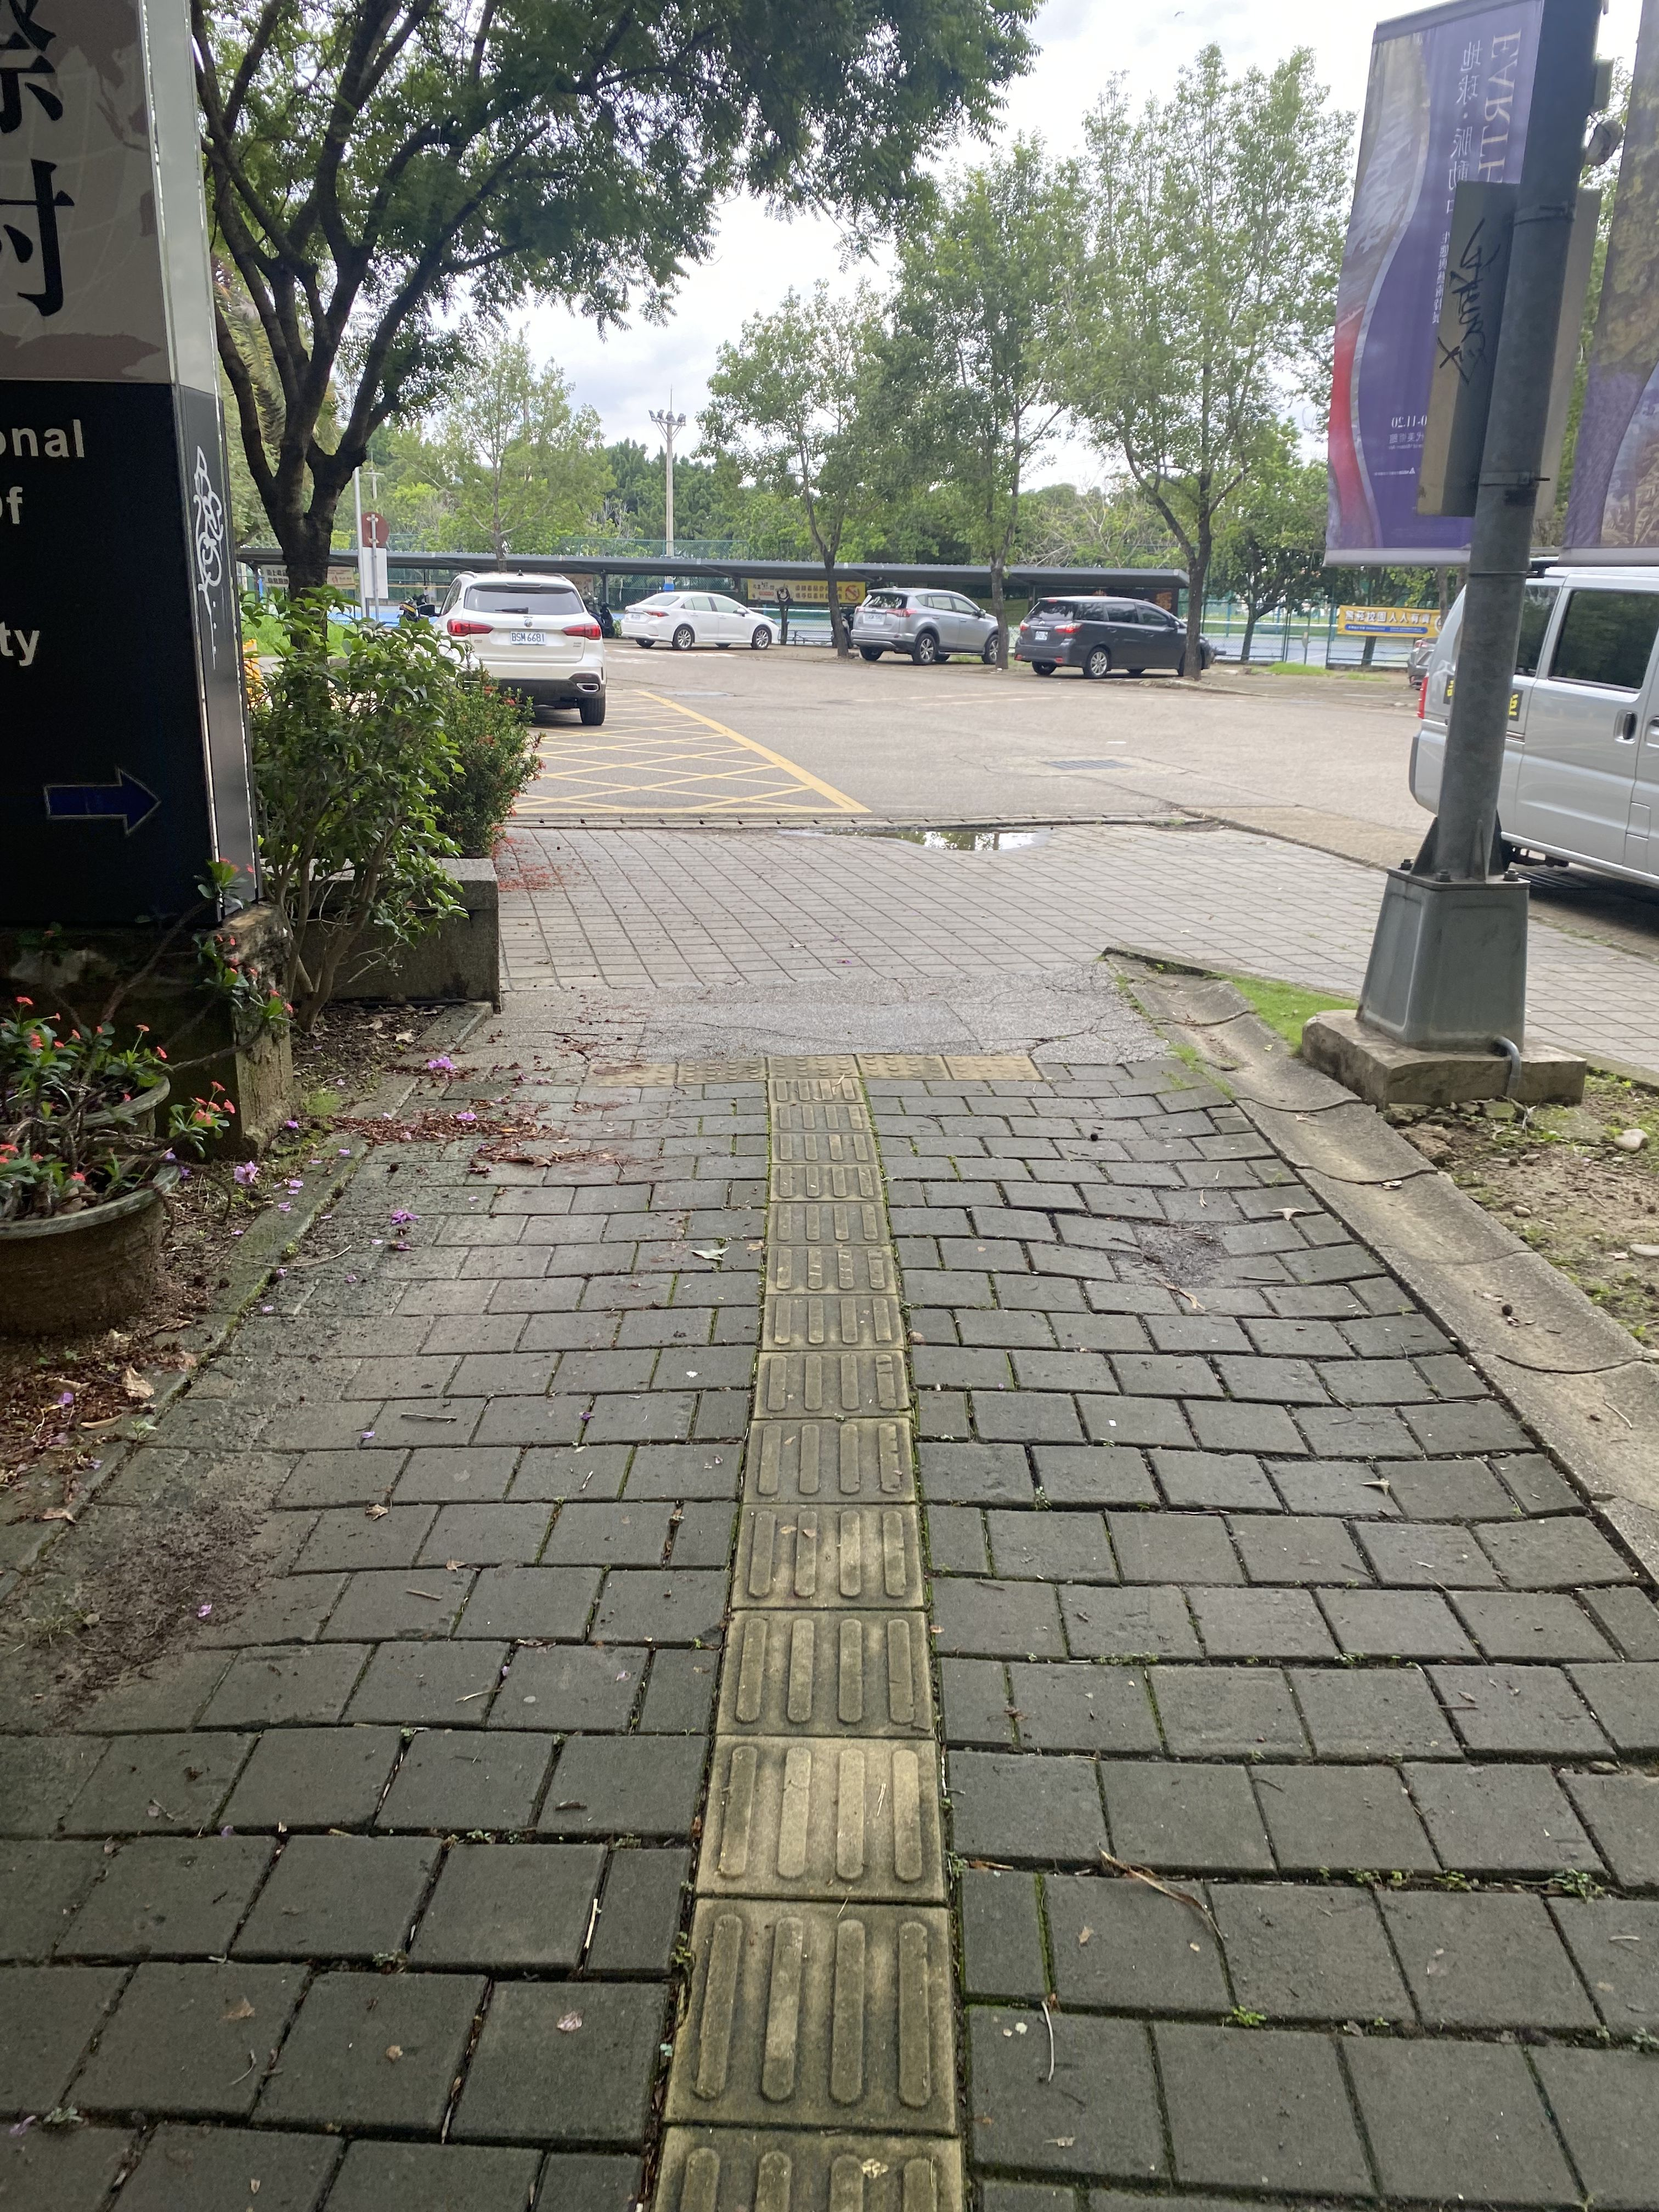sidewalk: (0, 784, 1659, 2212)
